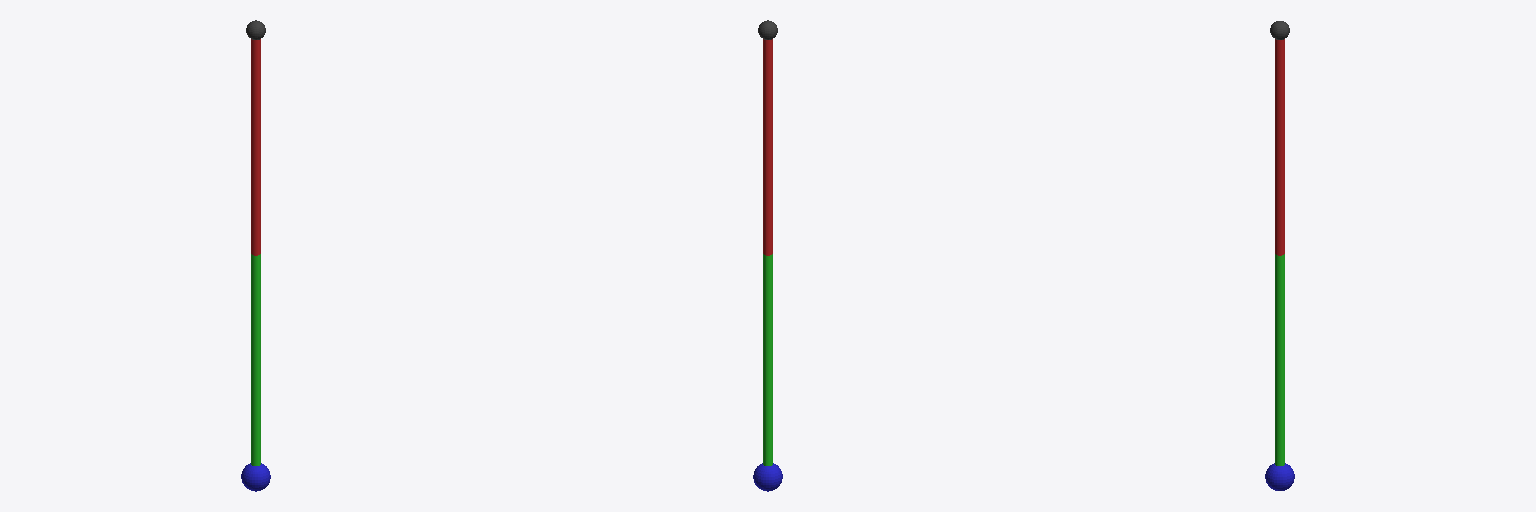
The robot description file, URDF, robot "double_pendulum":
<?xml version="1.0" encoding="utf-8"?>
<!--
  Double Pendulum URDF - Cross-Engine Validation Model
  
  Physics:
    - Two revolute joints (2-DOF)
    - Link lengths: L1 = L2 = 0.5 m
    - Point masses: m1 = m2 = 1.0 kg at each end
    - Gravity: 9.81 m/s² (Z-down)
    
  Use Cases:
    - Counterfactual analysis (ZTCF/ZVCF)
    - Coriolis/centrifugal coupling verification
    - Indexed acceleration decomposition closure
    - Energy conservation in chaotic regime
    
  Equations of Motion (Lagrangian formulation):
    M(q) = [m1*L1² + m2*(L1² + L2² + 2*L1*L2*cos(q2))   m2*(L2² + L1*L2*cos(q2))]
           [m2*(L2² + L1*L2*cos(q2))                    m2*L2²                  ]
    
    C(q,q̇) contains Coriolis/centrifugal terms with sin(q2) dependence
    
    g(q) = [(m1+m2)*g*L1*sin(q1) + m2*g*L2*sin(q1+q2)]
           [m2*g*L2*sin(q1+q2)                        ]
           
  Cross-Engine Validation:
    - Set identical (q, q̇) in all engines
    - Compute q̈ via forward dynamics
    - Verify: |q̈_engine1 - q̈_engine2| < tolerance
    
  Sources:
    - Underactuated Robotics, Tedrake, Ch. 2
    - Lagrangian Dynamics, Marsden & Ratiu
-->
<robot name="double_pendulum">
  <!-- World Link (fixed base) -->
  <link name="world"/>
  
  <!-- Base Link (upper pivot) -->
  <link name="base_link">
    <visual>
      <geometry>
        <sphere radius="0.02"/>
      </geometry>
      <material name="pivot_material">
        <color rgba="0.3 0.3 0.3 1.0"/>
      </material>
    </visual>
    <inertial>
      <mass value="0.001"/>
      <origin xyz="0 0 0" rpy="0 0 0"/>
      <inertia ixx="1e-9" ixy="0" ixz="0" iyy="1e-9" iyz="0" izz="1e-9"/>
    </inertial>
  </link>
  
  <!-- Fixed joint to world -->
  <joint name="world_to_base" type="fixed">
    <parent link="world"/>
    <child link="base_link"/>
    <origin xyz="0 0 2" rpy="0 0 0"/>
  </joint>
  
  <!-- Upper Pendulum Link -->
  <link name="upper_link">
    <visual>
      <origin xyz="0 0 -0.25" rpy="0 0 0"/>
      <geometry>
        <cylinder radius="0.01" length="0.5"/>
      </geometry>
      <material name="upper_material">
        <color rgba="0.8 0.2 0.2 1.0"/>
      </material>
    </visual>
    <collision>
      <origin xyz="0 0 -0.25" rpy="0 0 0"/>
      <geometry>
        <cylinder radius="0.01" length="0.5"/>
      </geometry>
    </collision>
    <!-- Point mass at end of upper link -->
    <inertial>
      <mass value="1.0"/>
      <origin xyz="0 0 -0.5" rpy="0 0 0"/>
      <inertia ixx="0.001" ixy="0" ixz="0" iyy="0.001" iyz="0" izz="0.001"/>
    </inertial>
  </link>
  
  <!-- Upper Joint -->
  <joint name="upper_joint" type="revolute">
    <parent link="base_link"/>
    <child link="upper_link"/>
    <origin xyz="0 0 0" rpy="0 0 0"/>
    <axis xyz="0 1 0"/>
    <limit lower="-3.14159" upper="3.14159" effort="100" velocity="10"/>
    <dynamics damping="0.0" friction="0.0"/>
  </joint>
  
  <!-- Lower Pendulum Link -->
  <link name="lower_link">
    <visual>
      <origin xyz="0 0 -0.25" rpy="0 0 0"/>
      <geometry>
        <cylinder radius="0.01" length="0.5"/>
      </geometry>
      <material name="lower_material">
        <color rgba="0.2 0.8 0.2 1.0"/>
      </material>
    </visual>
    <collision>
      <origin xyz="0 0 -0.25" rpy="0 0 0"/>
      <geometry>
        <cylinder radius="0.01" length="0.5"/>
      </geometry>
    </collision>
    <!-- Point mass at end of lower link -->
    <inertial>
      <mass value="1.0"/>
      <origin xyz="0 0 -0.5" rpy="0 0 0"/>
      <inertia ixx="0.001" ixy="0" ixz="0" iyy="0.001" iyz="0" izz="0.001"/>
    </inertial>
  </link>
  
  <!-- Lower Joint -->
  <joint name="lower_joint" type="revolute">
    <parent link="upper_link"/>
    <child link="lower_link"/>
    <origin xyz="0 0 -0.5" rpy="0 0 0"/>
    <axis xyz="0 1 0"/>
    <limit lower="-3.14159" upper="3.14159" effort="100" velocity="10"/>
    <dynamics damping="0.0" friction="0.0"/>
  </joint>
  
  <!-- End Effector Frame -->
  <link name="end_effector">
    <visual>
      <geometry>
        <sphere radius="0.03"/>
      </geometry>
      <material name="end_material">
        <color rgba="0.2 0.2 0.8 1.0"/>
      </material>
    </visual>
    <inertial>
      <mass value="0.001"/>
      <origin xyz="0 0 0" rpy="0 0 0"/>
      <inertia ixx="1e-9" ixy="0" ixz="0" iyy="1e-9" iyz="0" izz="1e-9"/>
    </inertial>
  </link>
  
  <joint name="lower_to_end" type="fixed">
    <parent link="lower_link"/>
    <child link="end_effector"/>
    <origin xyz="0 0 -0.5" rpy="0 0 0"/>
  </joint>
  
</robot>

--- What the picture shows (computed from the rendered views, not written in the file) ---
Views: 3 orthographic renders of the robot side by side, from view 1: azimuth 30°, elevation 25°; view 2: azimuth 150°, elevation 25°; view 3: azimuth 270°, elevation 25°.
Model double_pendulum with 5 links and 4 joints (2 revolute, 2 fixed), rooted at world, posed every joint at zero.
Visible links, largest first — view 1: upper_link, lower_link, end_effector; view 2: upper_link, lower_link, end_effector; view 3: upper_link, lower_link, end_effector.
Link boxes in pixels (left/top/right/bottom): upper_link: left=251, top=39, right=260, bottom=255; lower_link: left=251, top=254, right=260, bottom=465; end_effector: left=241, top=463, right=270, bottom=491; upper_link: left=763, top=39, right=772, bottom=255; lower_link: left=763, top=254, right=772, bottom=465; end_effector: left=753, top=463, right=782, bottom=491; upper_link: left=1275, top=39, right=1284, bottom=255; lower_link: left=1275, top=254, right=1284, bottom=465; end_effector: left=1265, top=463, right=1294, bottom=490.
Bounding box of the posed robot: 0.06 × 0.06 × 1.05 m (x, y, z).
Geometry: primitives only (box / cylinder / sphere), no mesh files.
